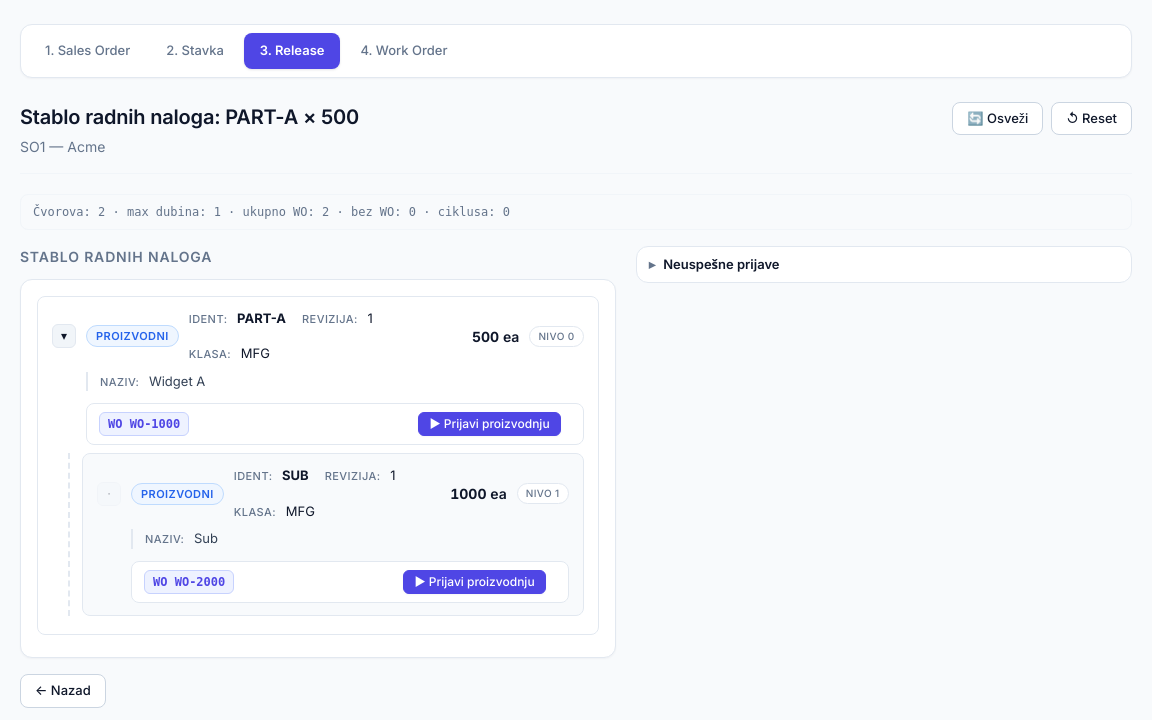
Test: WorkOrdersPage — cascade production reporting › clicking Prijavi proizvodnju cascades the clicked node subtree and shows a summary
Check: the text "PART-A" is shown, box [237,310,286,326]
Click the button with aria-label "pokreni prijavu". click: (490, 424)
box: [418,412,561,436]
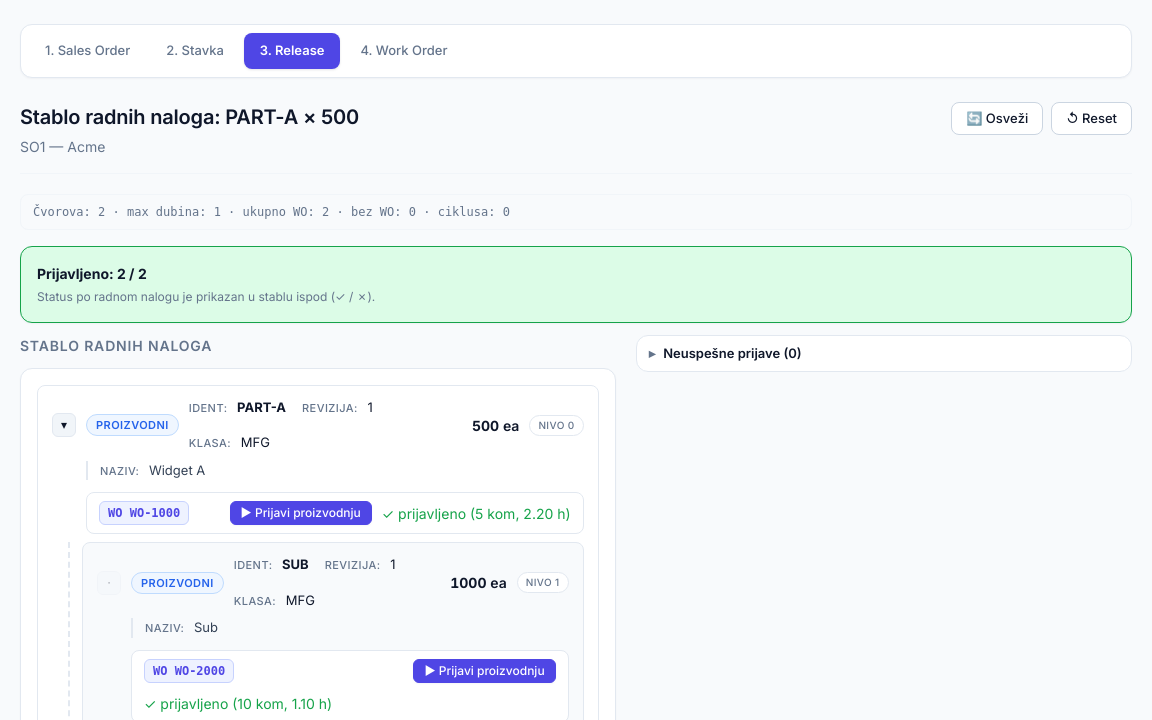
Check: the text "Prijavljeno: 2 / 2" is shown, box [37,264,147,282]
